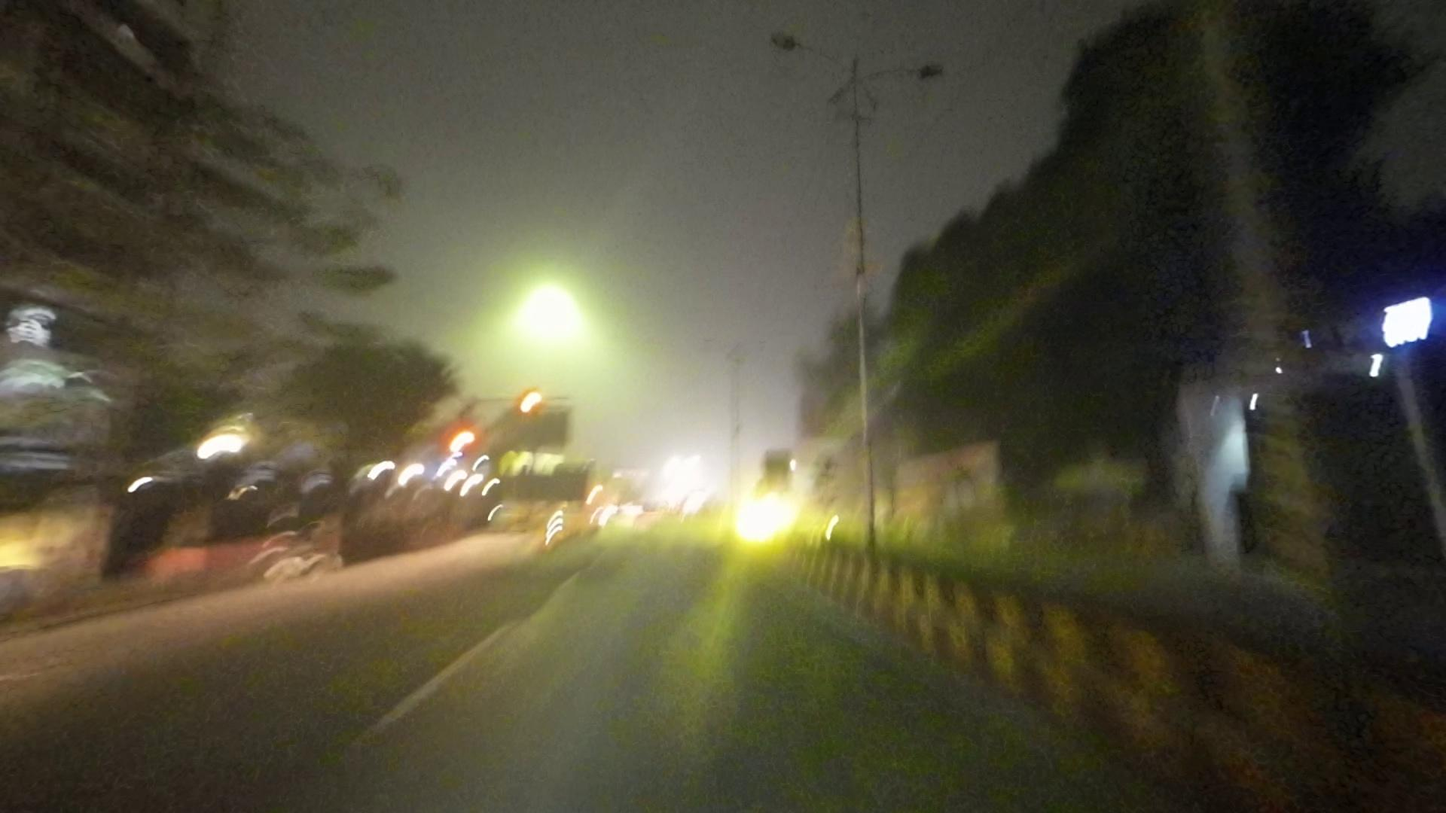streetlight: (762, 26, 848, 70), (866, 59, 950, 84)
